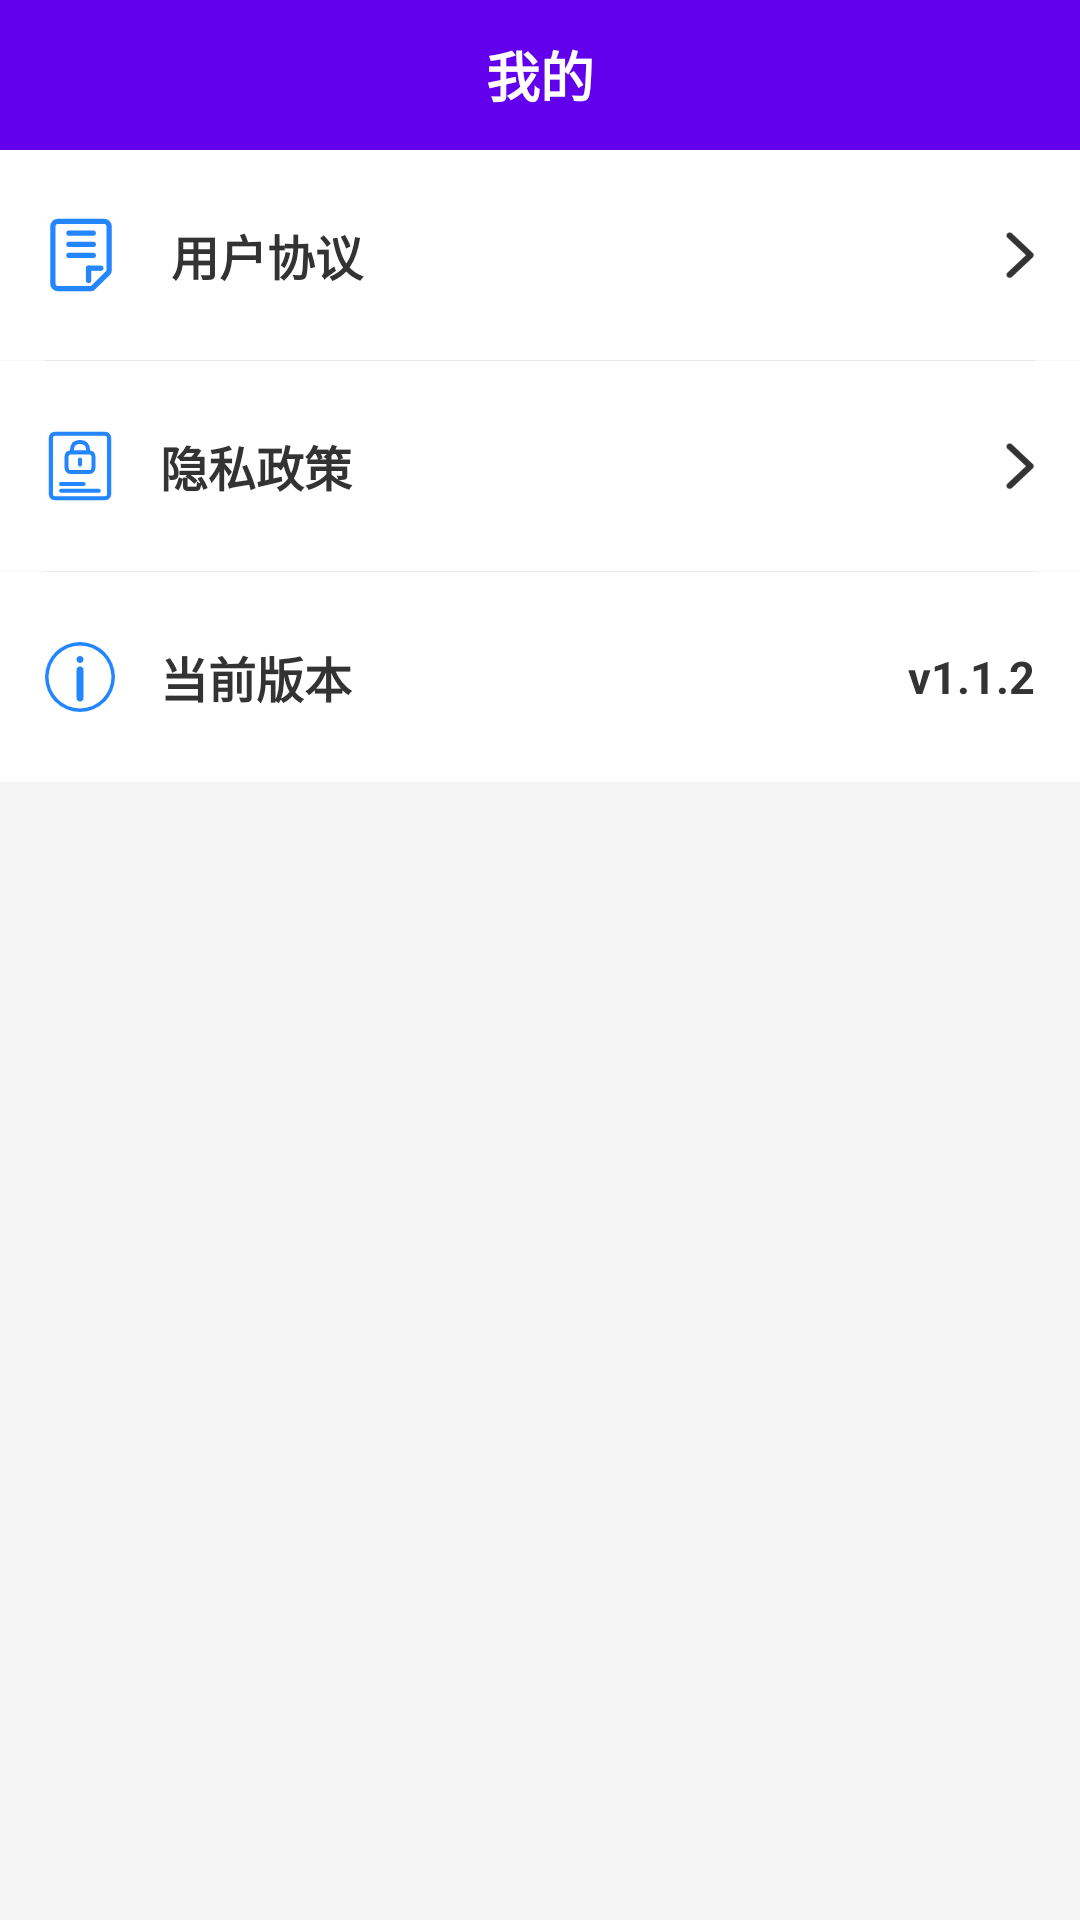

Icons on this 1080 x 1920 Android screen, each with the point to tap as (x,y):
arrow: (1020,255), (1020,466)
